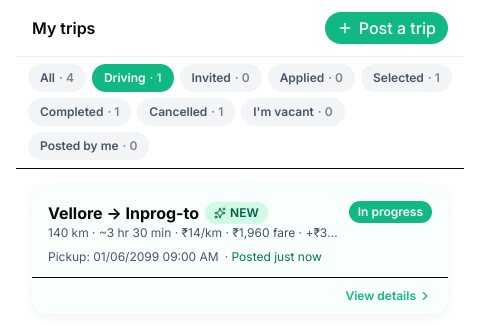
Test case: DriverActivityPage › Selected / Completed / Cancelled chips each filter the assigned list to their bucket
Step 1. Click the button "Selected · 1" → (406, 78), box [361,64,452,92]
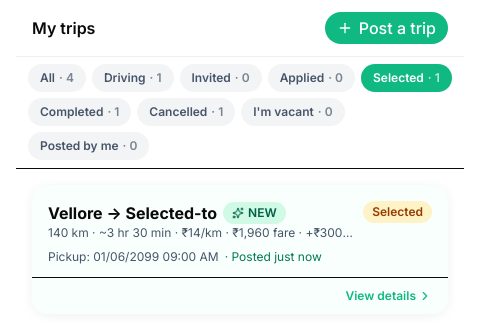
Expected: the text "Vellore → Selected-to" is shown, [48,201,217,225]
Expected: the link "Vellore → Inprog-to" is gone
Step 2. Click the button "Completed · 1" → (80, 112), box [28,98,131,126]
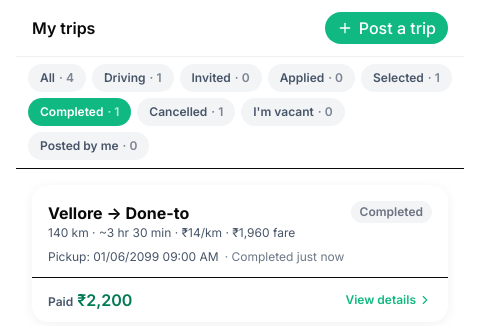
Expected: the text "Vellore → Done-to" is shown, [48,203,189,223]
Expected: the link "Vellore → Selected-to" is gone
Step 3. Click the button "Cancelled · 1" → (186, 112), box [137,98,235,126]
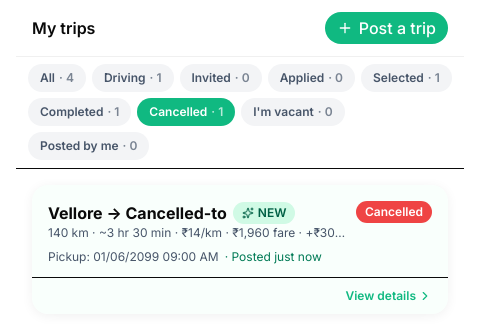
Expected: the text "Vellore → Cancelled-to" is shown, [48,201,227,225]
Expected: the link "Vellore → Done-to" is gone
